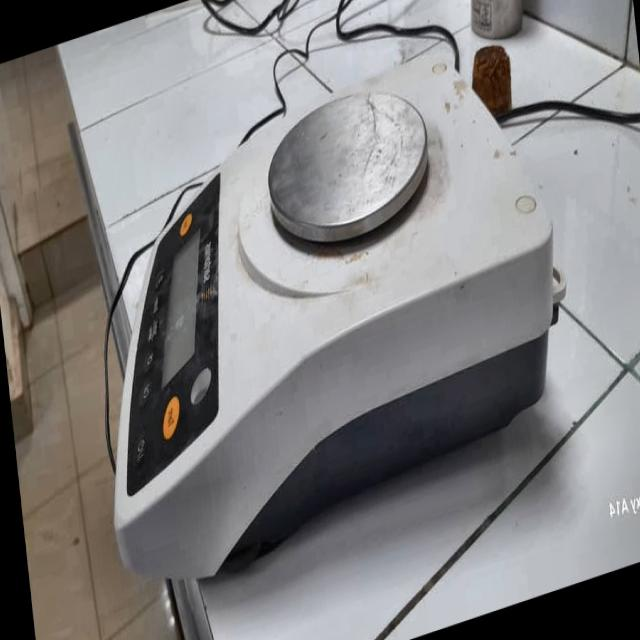Electronic balance: (74, 42, 480, 616)
